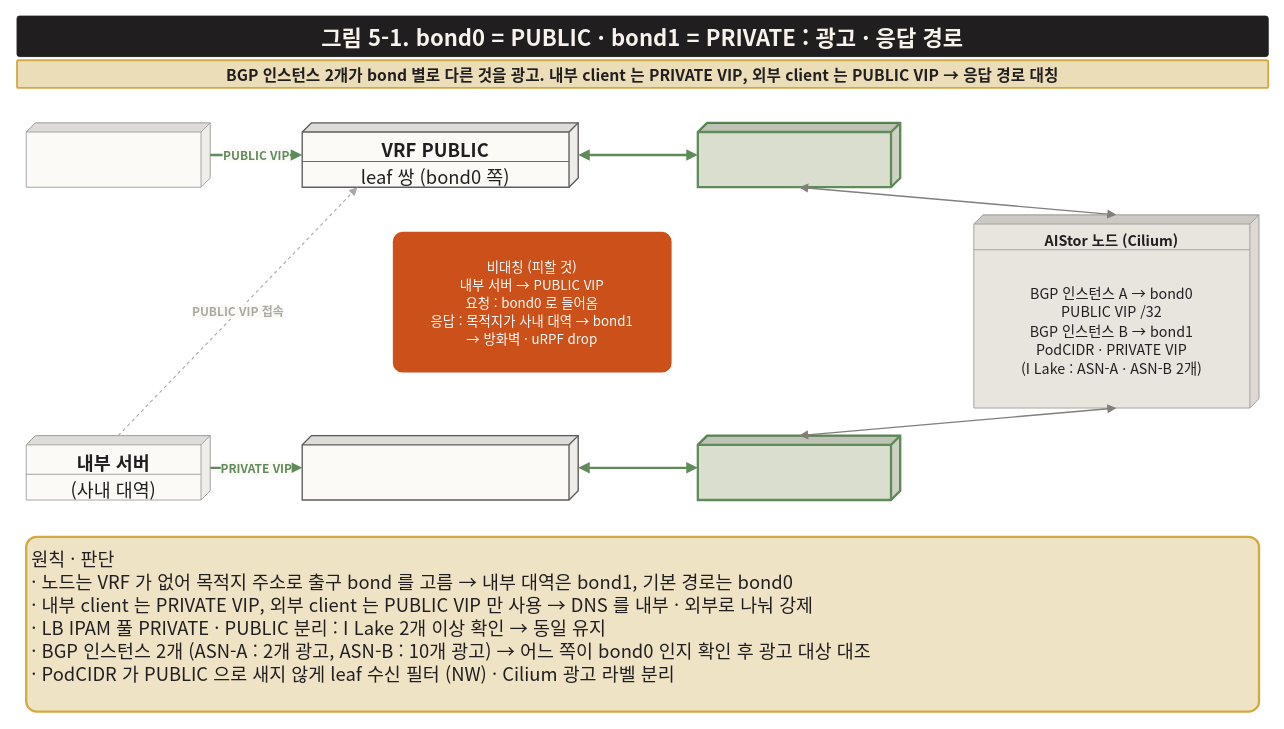
The diagram is 1284 pixels wide and 729 high, and some of its shapes have lost their labels. The centre of each missing label's shape, as x and y in pixels:
"bond0 802.3ad · layer3+4" belongs at pixel 798 154.
"bond1 802.3ad · layer3+4" belongs at pixel 798 467.
"VRF PRIVATE leaf 쌍 (bond1 쪽)" belongs at pixel 439 467.
"외부 client (FA Core 경유)" belongs at pixel 117 154.
